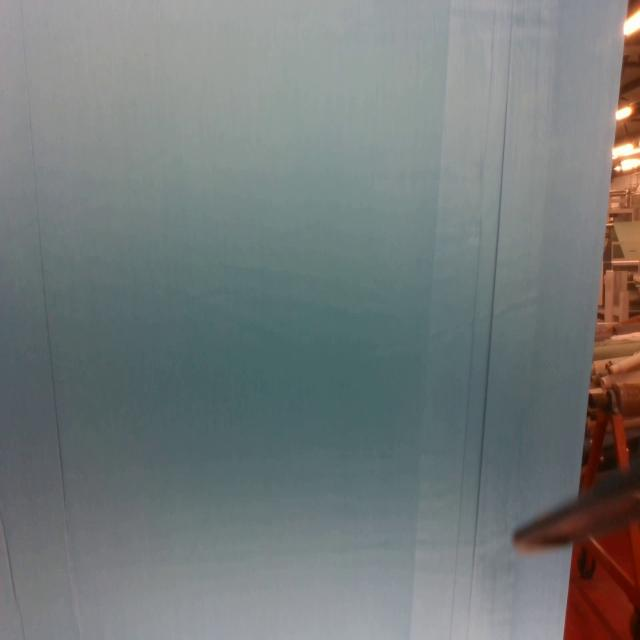crease: (449, 2, 515, 638), (19, 1, 82, 640), (0, 502, 25, 640)
